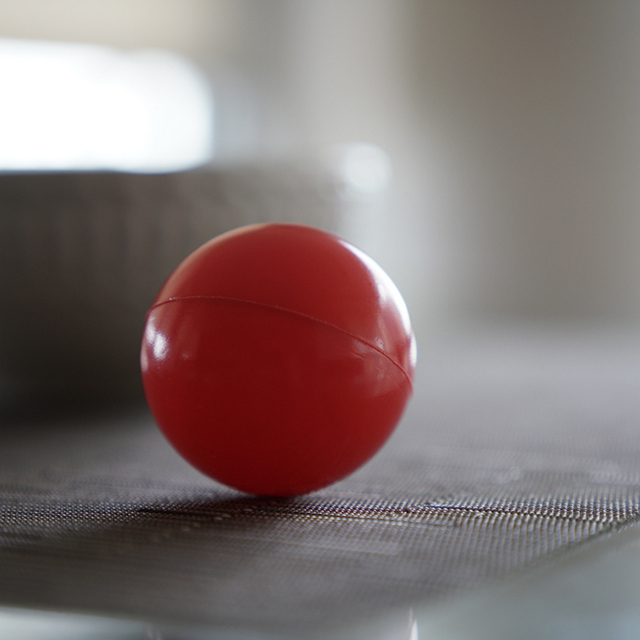Ball: (139, 226, 415, 498)
